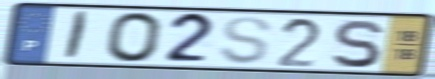2: (159, 11, 221, 66), (273, 16, 326, 68)
I: (61, 9, 93, 62)
O: (104, 10, 166, 65)
S: (216, 15, 275, 67), (329, 17, 385, 70)
